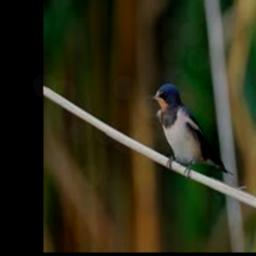Swallow: (149, 83, 232, 177)
